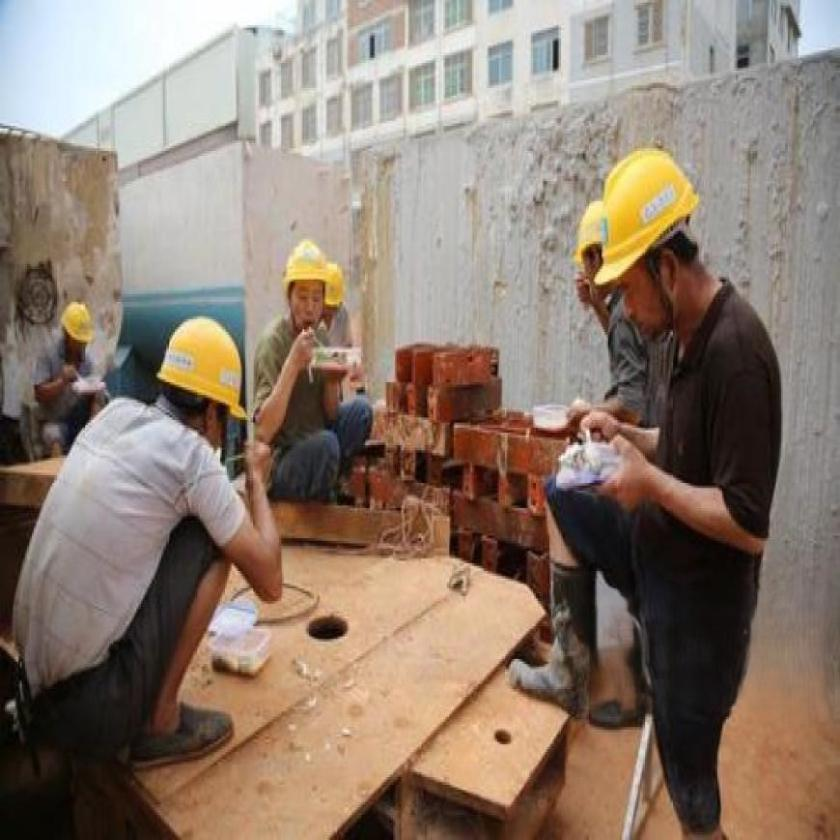Con_casco: (152, 299, 247, 446), (284, 230, 327, 339)
